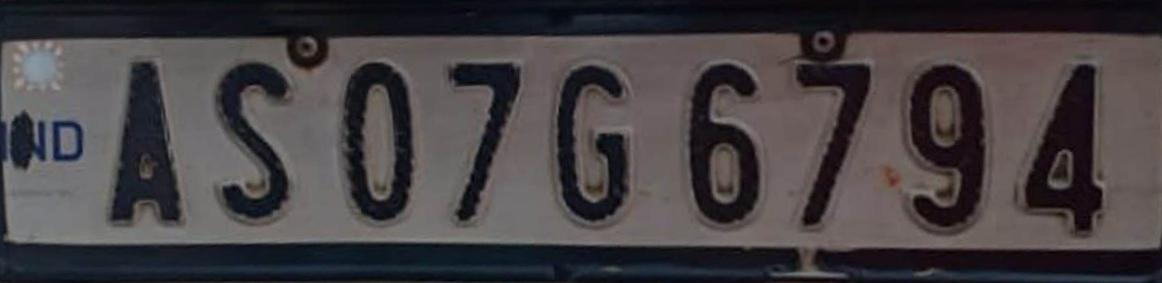0: (328, 45, 423, 231)
4: (1014, 42, 1116, 245)
6: (672, 39, 770, 245)
7: (787, 36, 878, 243), (434, 38, 526, 237)
9: (886, 48, 995, 246)
A: (96, 35, 195, 245)
G: (546, 44, 645, 238)
S: (200, 40, 308, 233)
